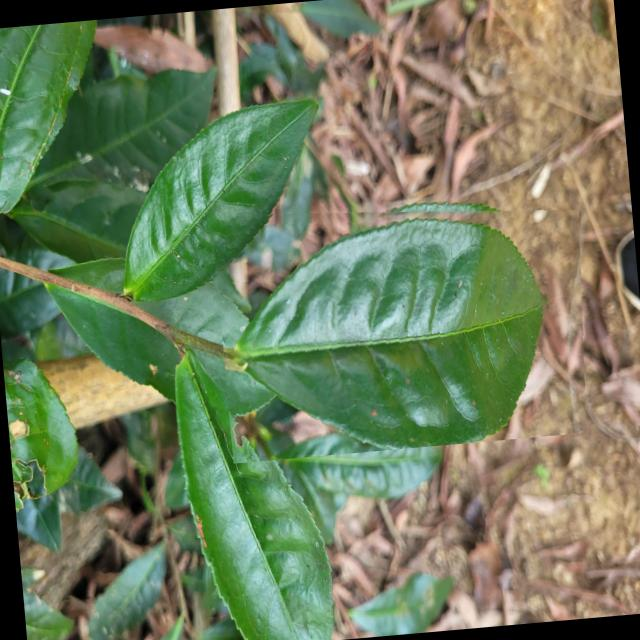Category D(7+ days, Not for Tea): (212, 181, 598, 462)
